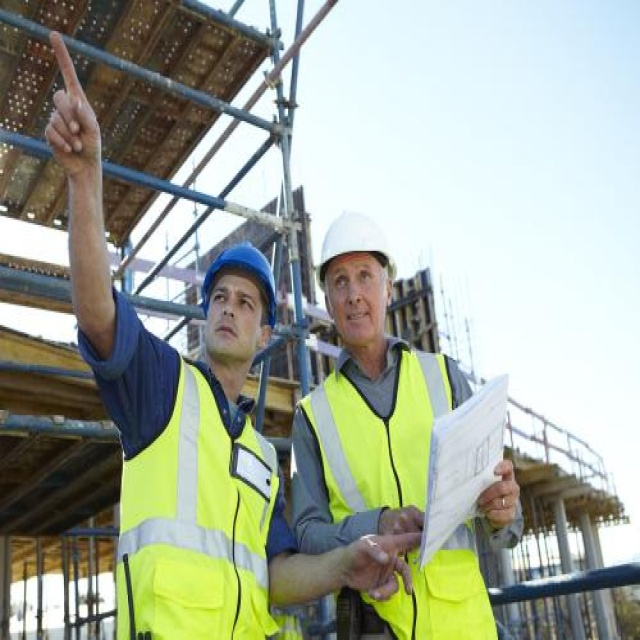Helmet: (308, 200, 403, 367), (187, 236, 287, 384)
Reflective vest: (286, 344, 502, 640), (110, 351, 283, 640)
